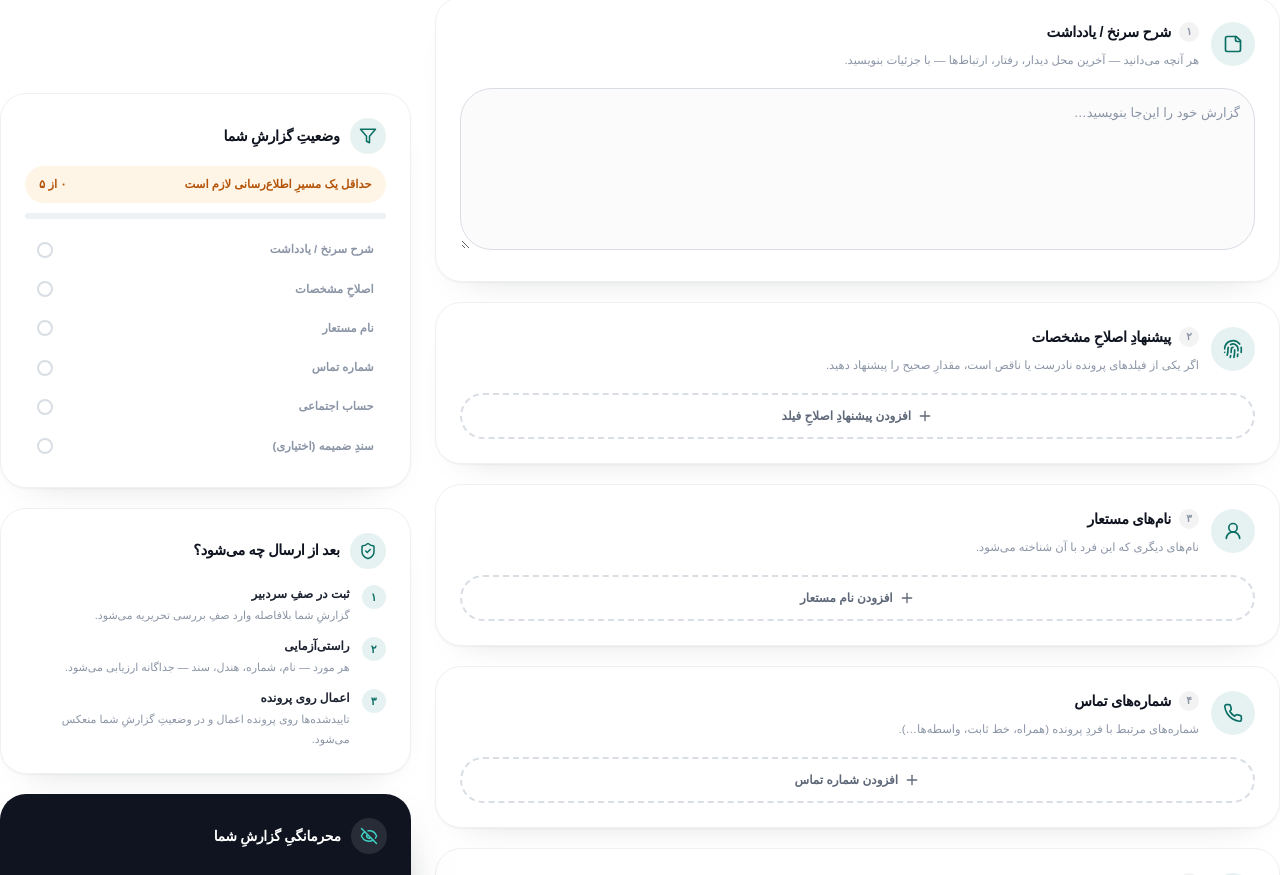
Test: ReportPanel — قانونِ «حداقل یک مسیر» › با یک یادداشت، ارسال فعال می‌شود
Type "آخرین بار در وانِ ترکیه دیده شد" into the text box with placeholder "گزارش خود را این‌جا بنویسید…" at (857, 169), box [460,88,1255,250]
(page scrolled)
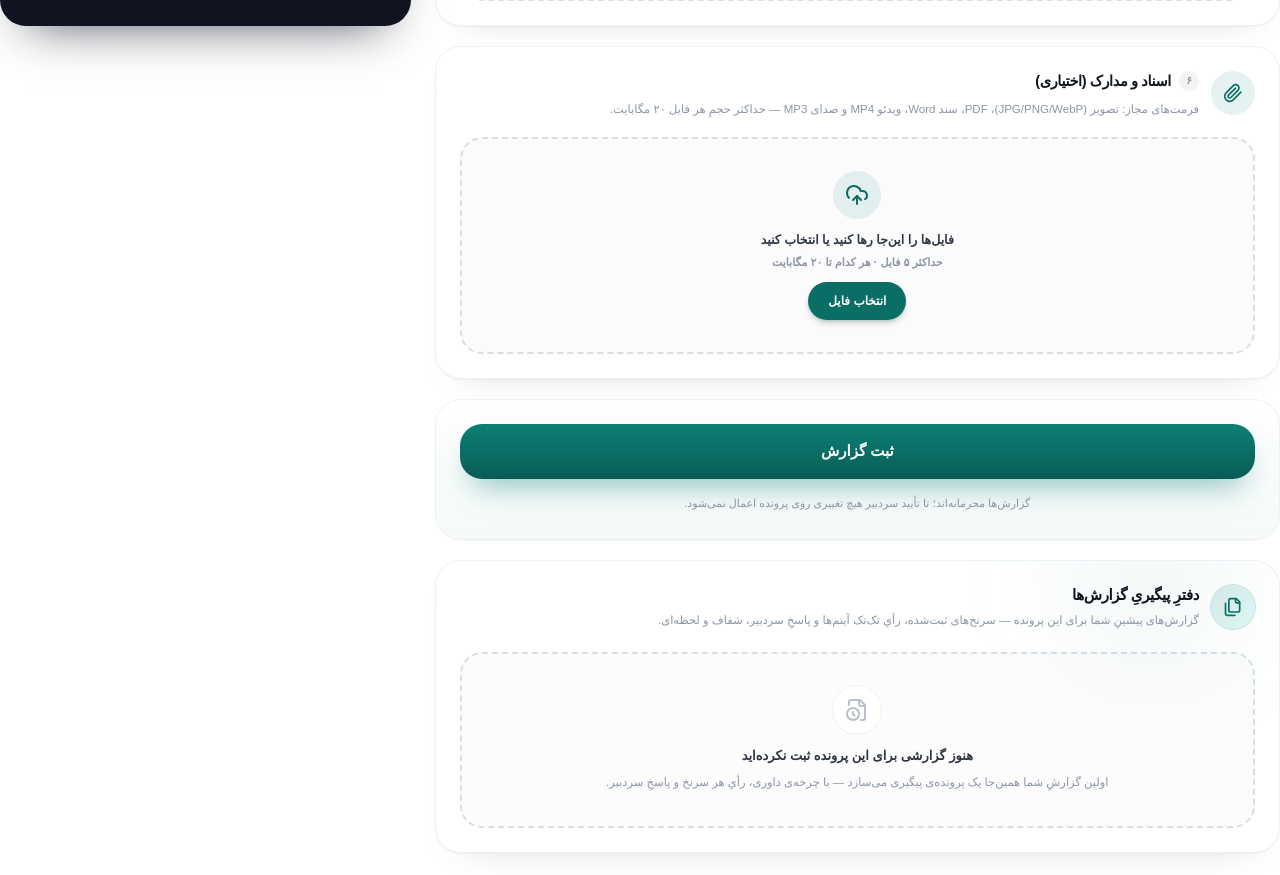
Expected: the button "ثبت گزارش" is enabled, [460,424,1255,479]
